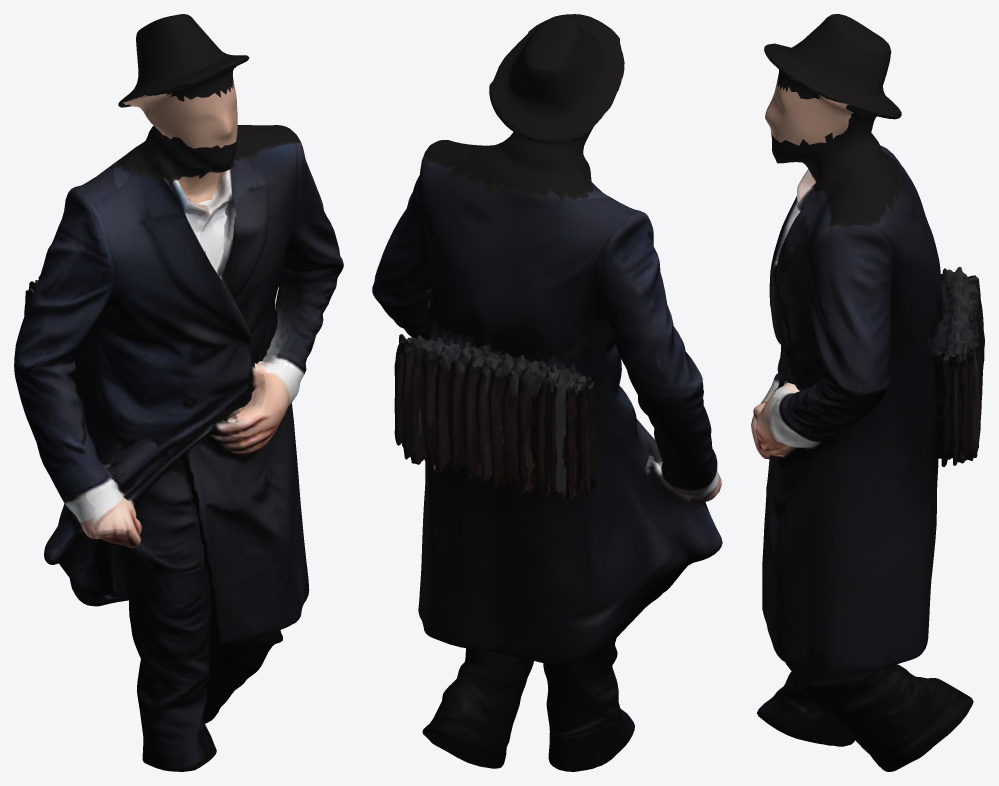
File: hassid-sculptly.glb
The picture shows the model from 3 angles, left to right: view 1: azimuth 30°, elevation 25°; view 2: azimuth 150°, elevation 25°; view 3: azimuth 270°, elevation 25°; orthographic projection. The views are drawn at different scales.
Visible parts, largest first — view 1: hassid; view 2: hassid; view 3: hassid.
Part boxes in pixels (x1=…): hassid: x1=14, y1=14, x2=343, y2=771; hassid: x1=372, y1=14, x2=722, y2=771; hassid: x1=751, y1=14, x2=984, y2=771.
Size of the model in its own units: 0.445 by 0.9886 by 0.2886.
Materials: 3 (1 with a texture image).
